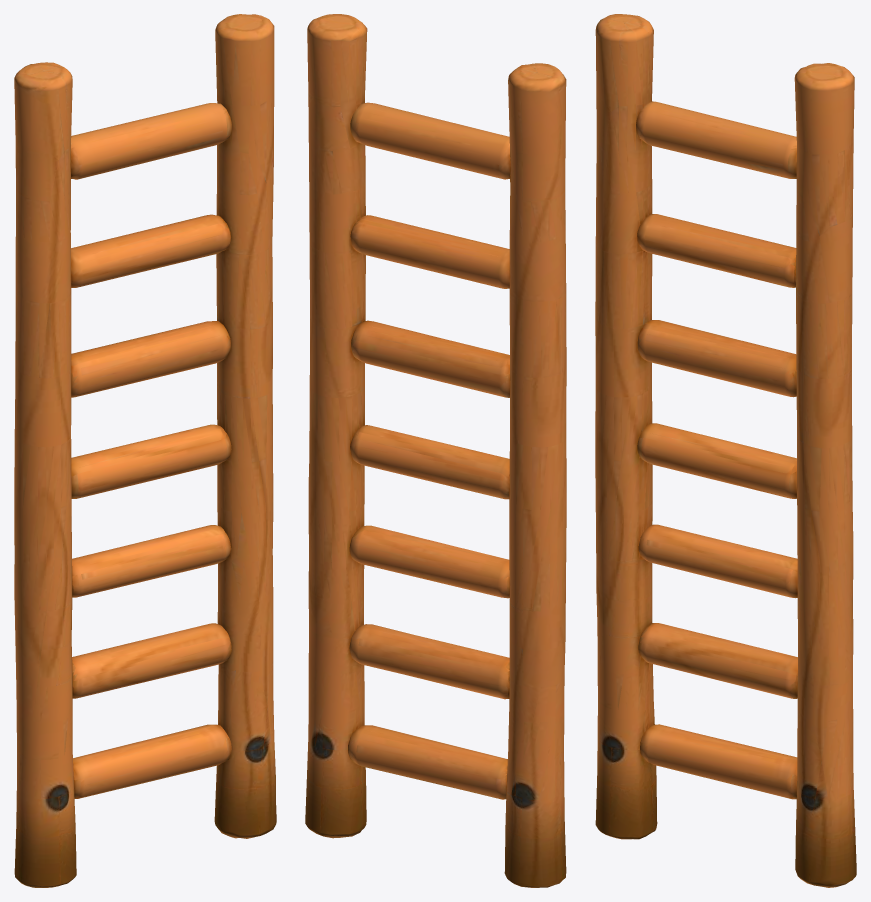
Rendered from loft_ladder.glb.
3 renders of one model, left to right at view 1: azimuth 30°, elevation 25°; view 2: azimuth 150°, elevation 25°; view 3: azimuth 330°, elevation 25°, orthographic.
Bounding box in the file's own units: 0.3304 × 1 × 0.0706.
1 material, 1 textured.
